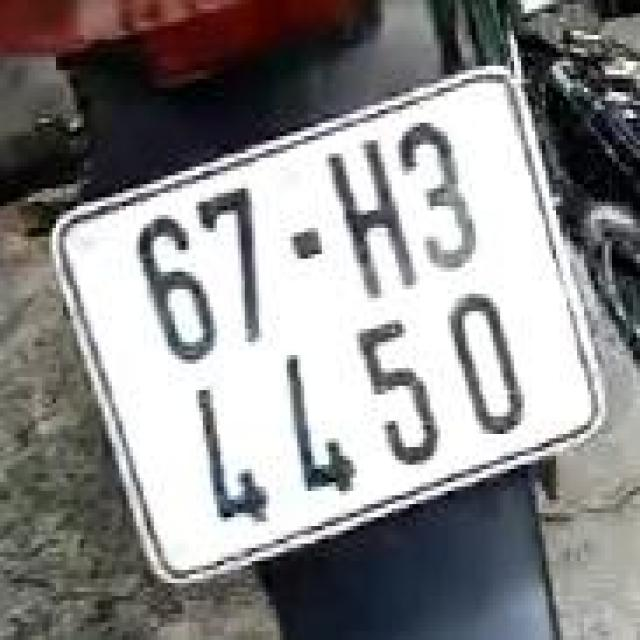0: (432, 276, 541, 455)
3: (388, 102, 494, 290)
4: (272, 331, 369, 513), (181, 369, 274, 542)
5: (347, 301, 456, 484)
6: (123, 194, 231, 376)
7: (190, 168, 287, 360)
H: (314, 119, 427, 312)
